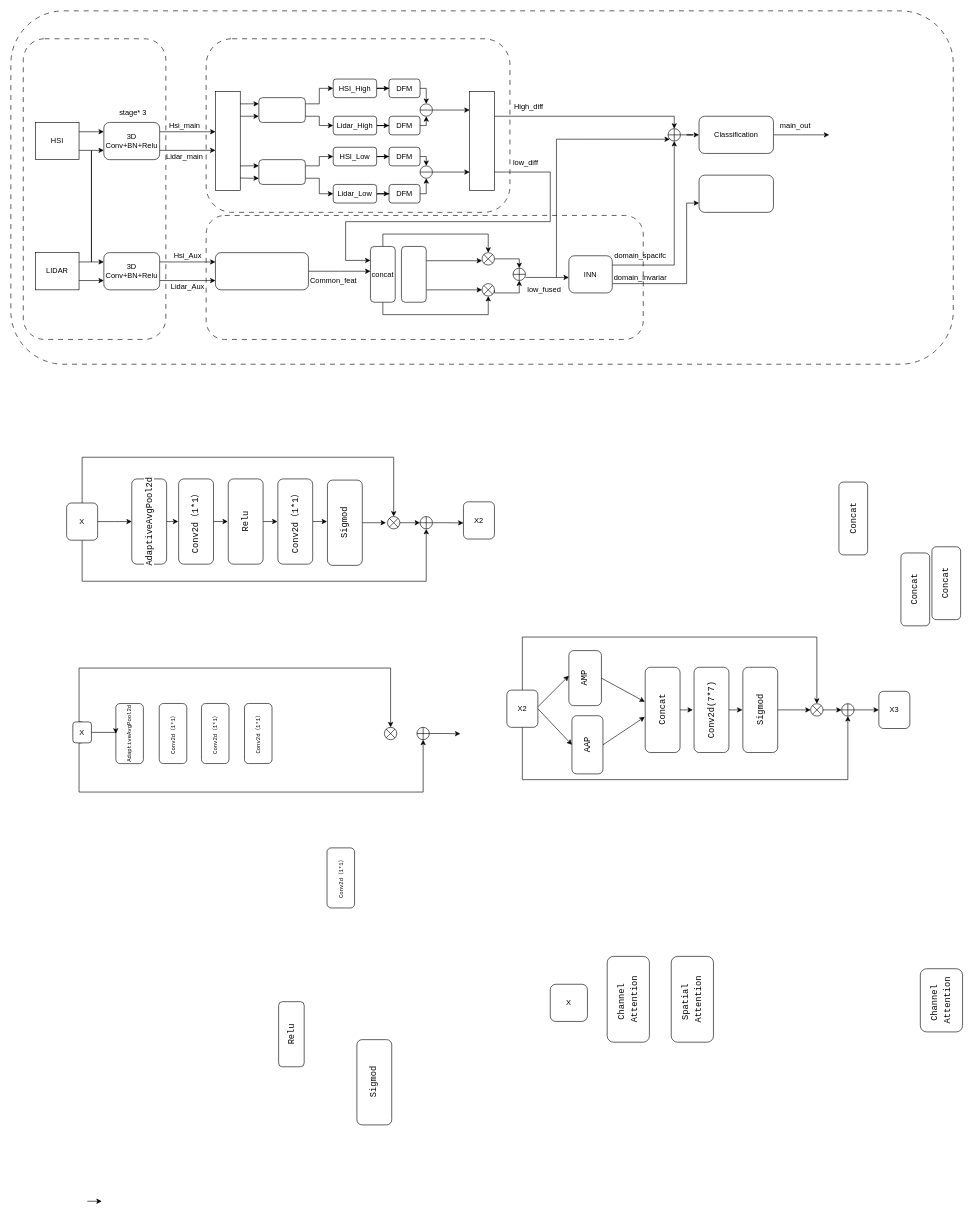
Image size: 973x1218. Some labels were removed from this diagram. The centre of each missing label's shape, as x and y in pixels:
1*1 softmax: [413,274]
2D FFT: [227,141]
Aux_classification: [735,193]
HPF: [281,109]
IFFT: [481,141]
LPF: [281,171]
PGSE增强: [261,271]
